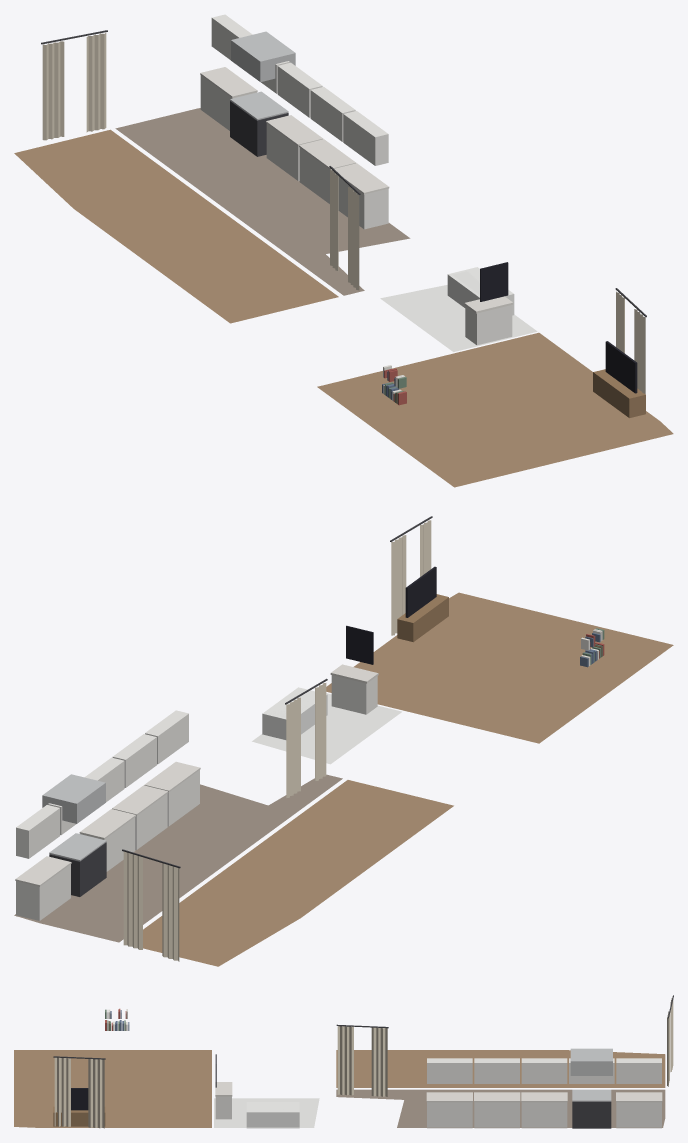
Rendered from fine-s1.glb.
The picture shows the model from 3 angles, top to bottom: view 1: azimuth 30°, elevation 25°; view 2: azimuth 150°, elevation 25°; view 3: azimuth 270°, elevation 25°; orthographic projection. The views are drawn at different scales.
Parts seen in each view (by area): view 1: soft-s1, range.000, vanity.000, tv-console.001, counter-run.003, counter-run.001, counter-run.000, counter-run.002, kitchen-upper.004, kitchen-upper.002, kitchen-upper.003, bathtub.000 (+1 smaller); view 2: soft-s1, range.000, vanity.000, counter-run.000, tv-console.001, counter-run.003, counter-run.002, counter-run.001, kitchen-upper.000, bathtub.000, kitchen-upper.003, kitchen-upper.004 (+1 smaller); view 3: soft-s1, range.000, counter-run.001, counter-run.000, counter-run.002, counter-run.003, bathtub.000, kitchen-upper.002, kitchen-upper.000, kitchen-upper.003, kitchen-upper.004, tv-console.001 (+2 smaller).
Boxes of the visible parts, x1,y1,x2,y2 form: soft-s1: (14,30,673,487); range.000: (230,31,295,156); vanity.000: (464,262,513,345); tv-console.001: (593,341,645,418); counter-run.003: (332,163,389,229); counter-run.001: (266,115,323,181); counter-run.000: (200,67,257,130); counter-run.002: (299,139,355,203); kitchen-upper.004: (343,111,388,165); kitchen-upper.002: (277,62,322,117); kitchen-upper.003: (310,86,355,141); bathtub.000: (447,267,514,315); soft-s1: (14,516,673,966); range.000: (42,774,106,896); vanity.000: (330,625,378,714); counter-run.000: (15,856,71,920); tv-console.001: (397,566,448,642); counter-run.003: (144,761,200,826); counter-run.002: (112,785,168,849); counter-run.001: (79,809,135,871); kitchen-upper.000: (16,805,59,858); bathtub.000: (262,687,327,739); kitchen-upper.003: (112,734,156,787); kitchen-upper.004: (145,710,188,764); soft-s1: (14,995,673,1128); range.000: (570,1048,612,1128); counter-run.001: (521,1092,567,1128); counter-run.000: (616,1092,662,1128); counter-run.002: (474,1092,520,1128); counter-run.003: (426,1092,472,1128); bathtub.000: (246,1102,299,1128); kitchen-upper.002: (521,1058,567,1083); kitchen-upper.000: (616,1058,661,1083); kitchen-upper.003: (474,1058,519,1083); kitchen-upper.004: (427,1058,472,1083); tv-console.001: (53,1088,105,1126).
Bounding box in the file's own units: 5.81 × 2.41 × 20.21.
